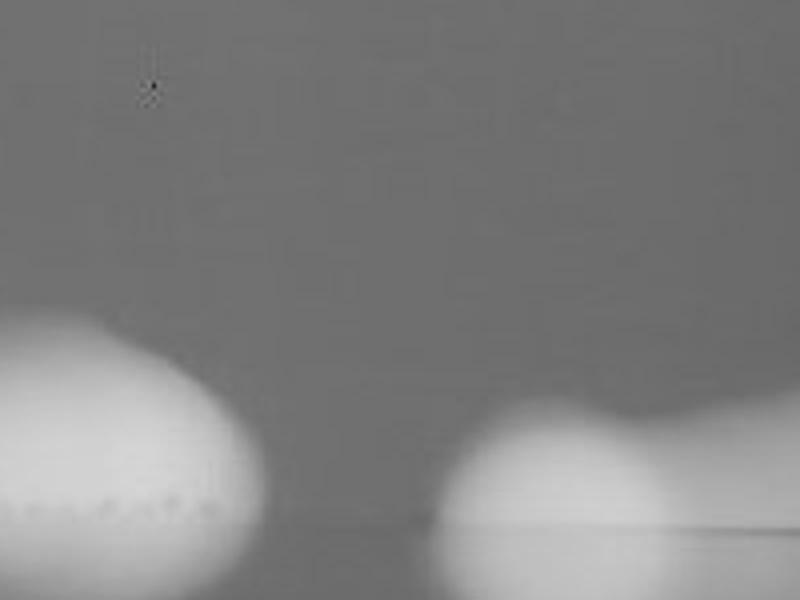defect: (201, 497, 223, 523), (101, 493, 122, 514), (144, 77, 164, 97), (165, 495, 186, 513)
